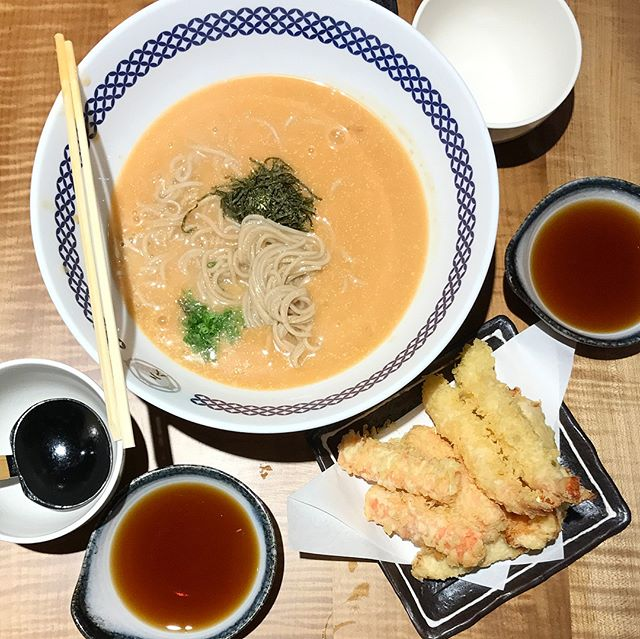Soba: (129, 154, 341, 376)
